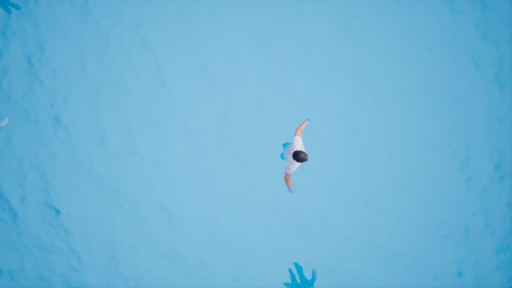person: (267, 120, 321, 193)
